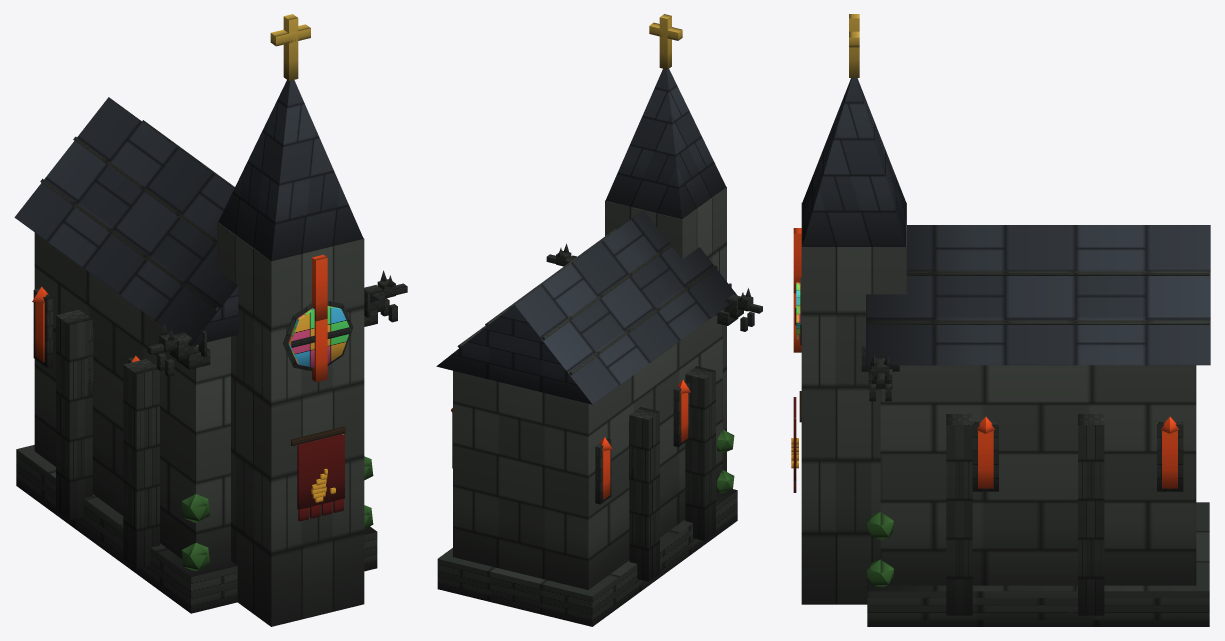
The model's file is cathedral.obj.
3 renders of one model, left to right at view 1: azimuth 30°, elevation 25°; view 2: azimuth 150°, elevation 25°; view 3: azimuth 270°, elevation 25°, orthographic. The views are drawn at different scales.
Visible parts, largest first — view 1: cathedral; view 2: cathedral; view 3: cathedral.
Part boxes in pixels (left/top/right/bottom): cathedral: left=14, top=14, right=407, bottom=626; cathedral: left=436, top=14, right=762, bottom=626; cathedral: left=791, top=14, right=1210, bottom=626.
Bounding box in the file's own units: 2.2 × 4.75 × 3.19.
1 material, 1 textured.
